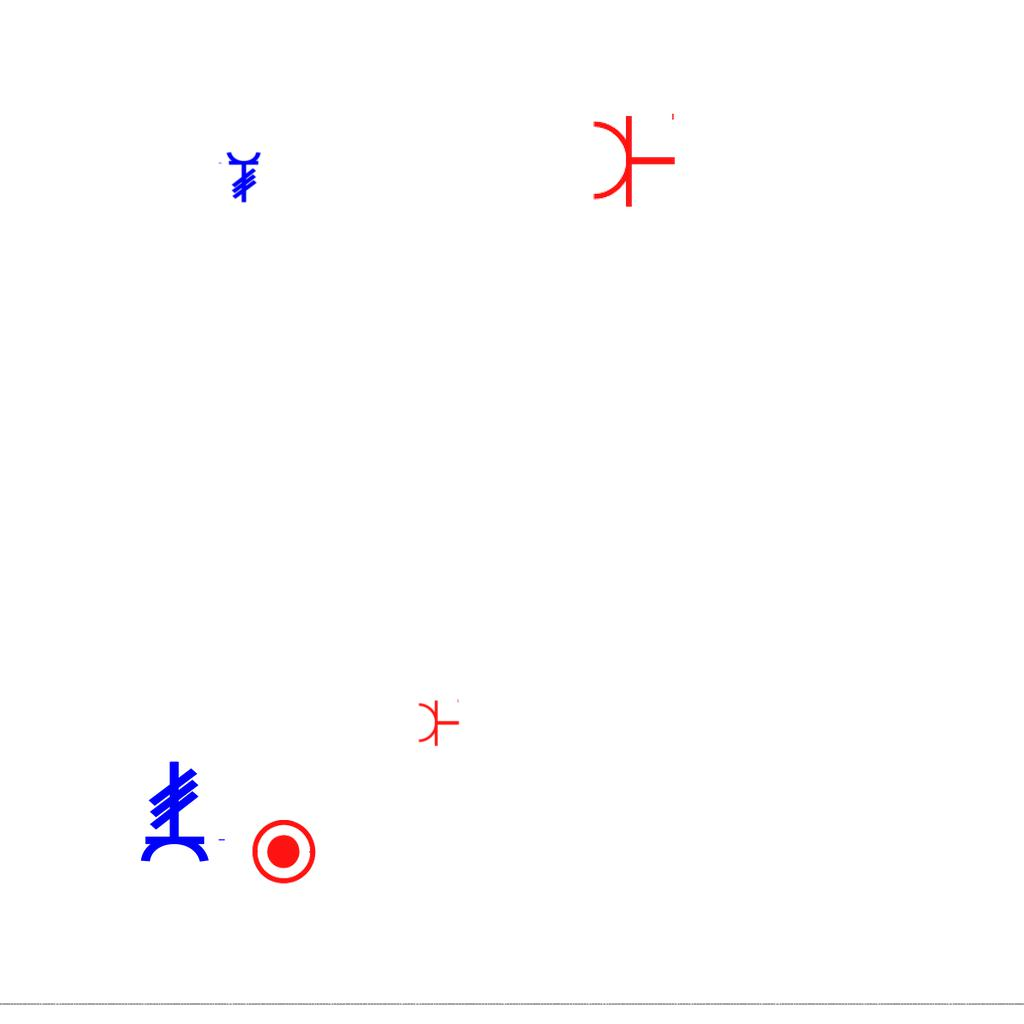CEE_Drehstrom_Steckdose_16_32_A: (138, 760, 228, 864), (217, 151, 262, 203)
Schukosteckdose_einfach: (590, 109, 677, 209), (417, 697, 460, 747)
Taster: (250, 820, 316, 886)
